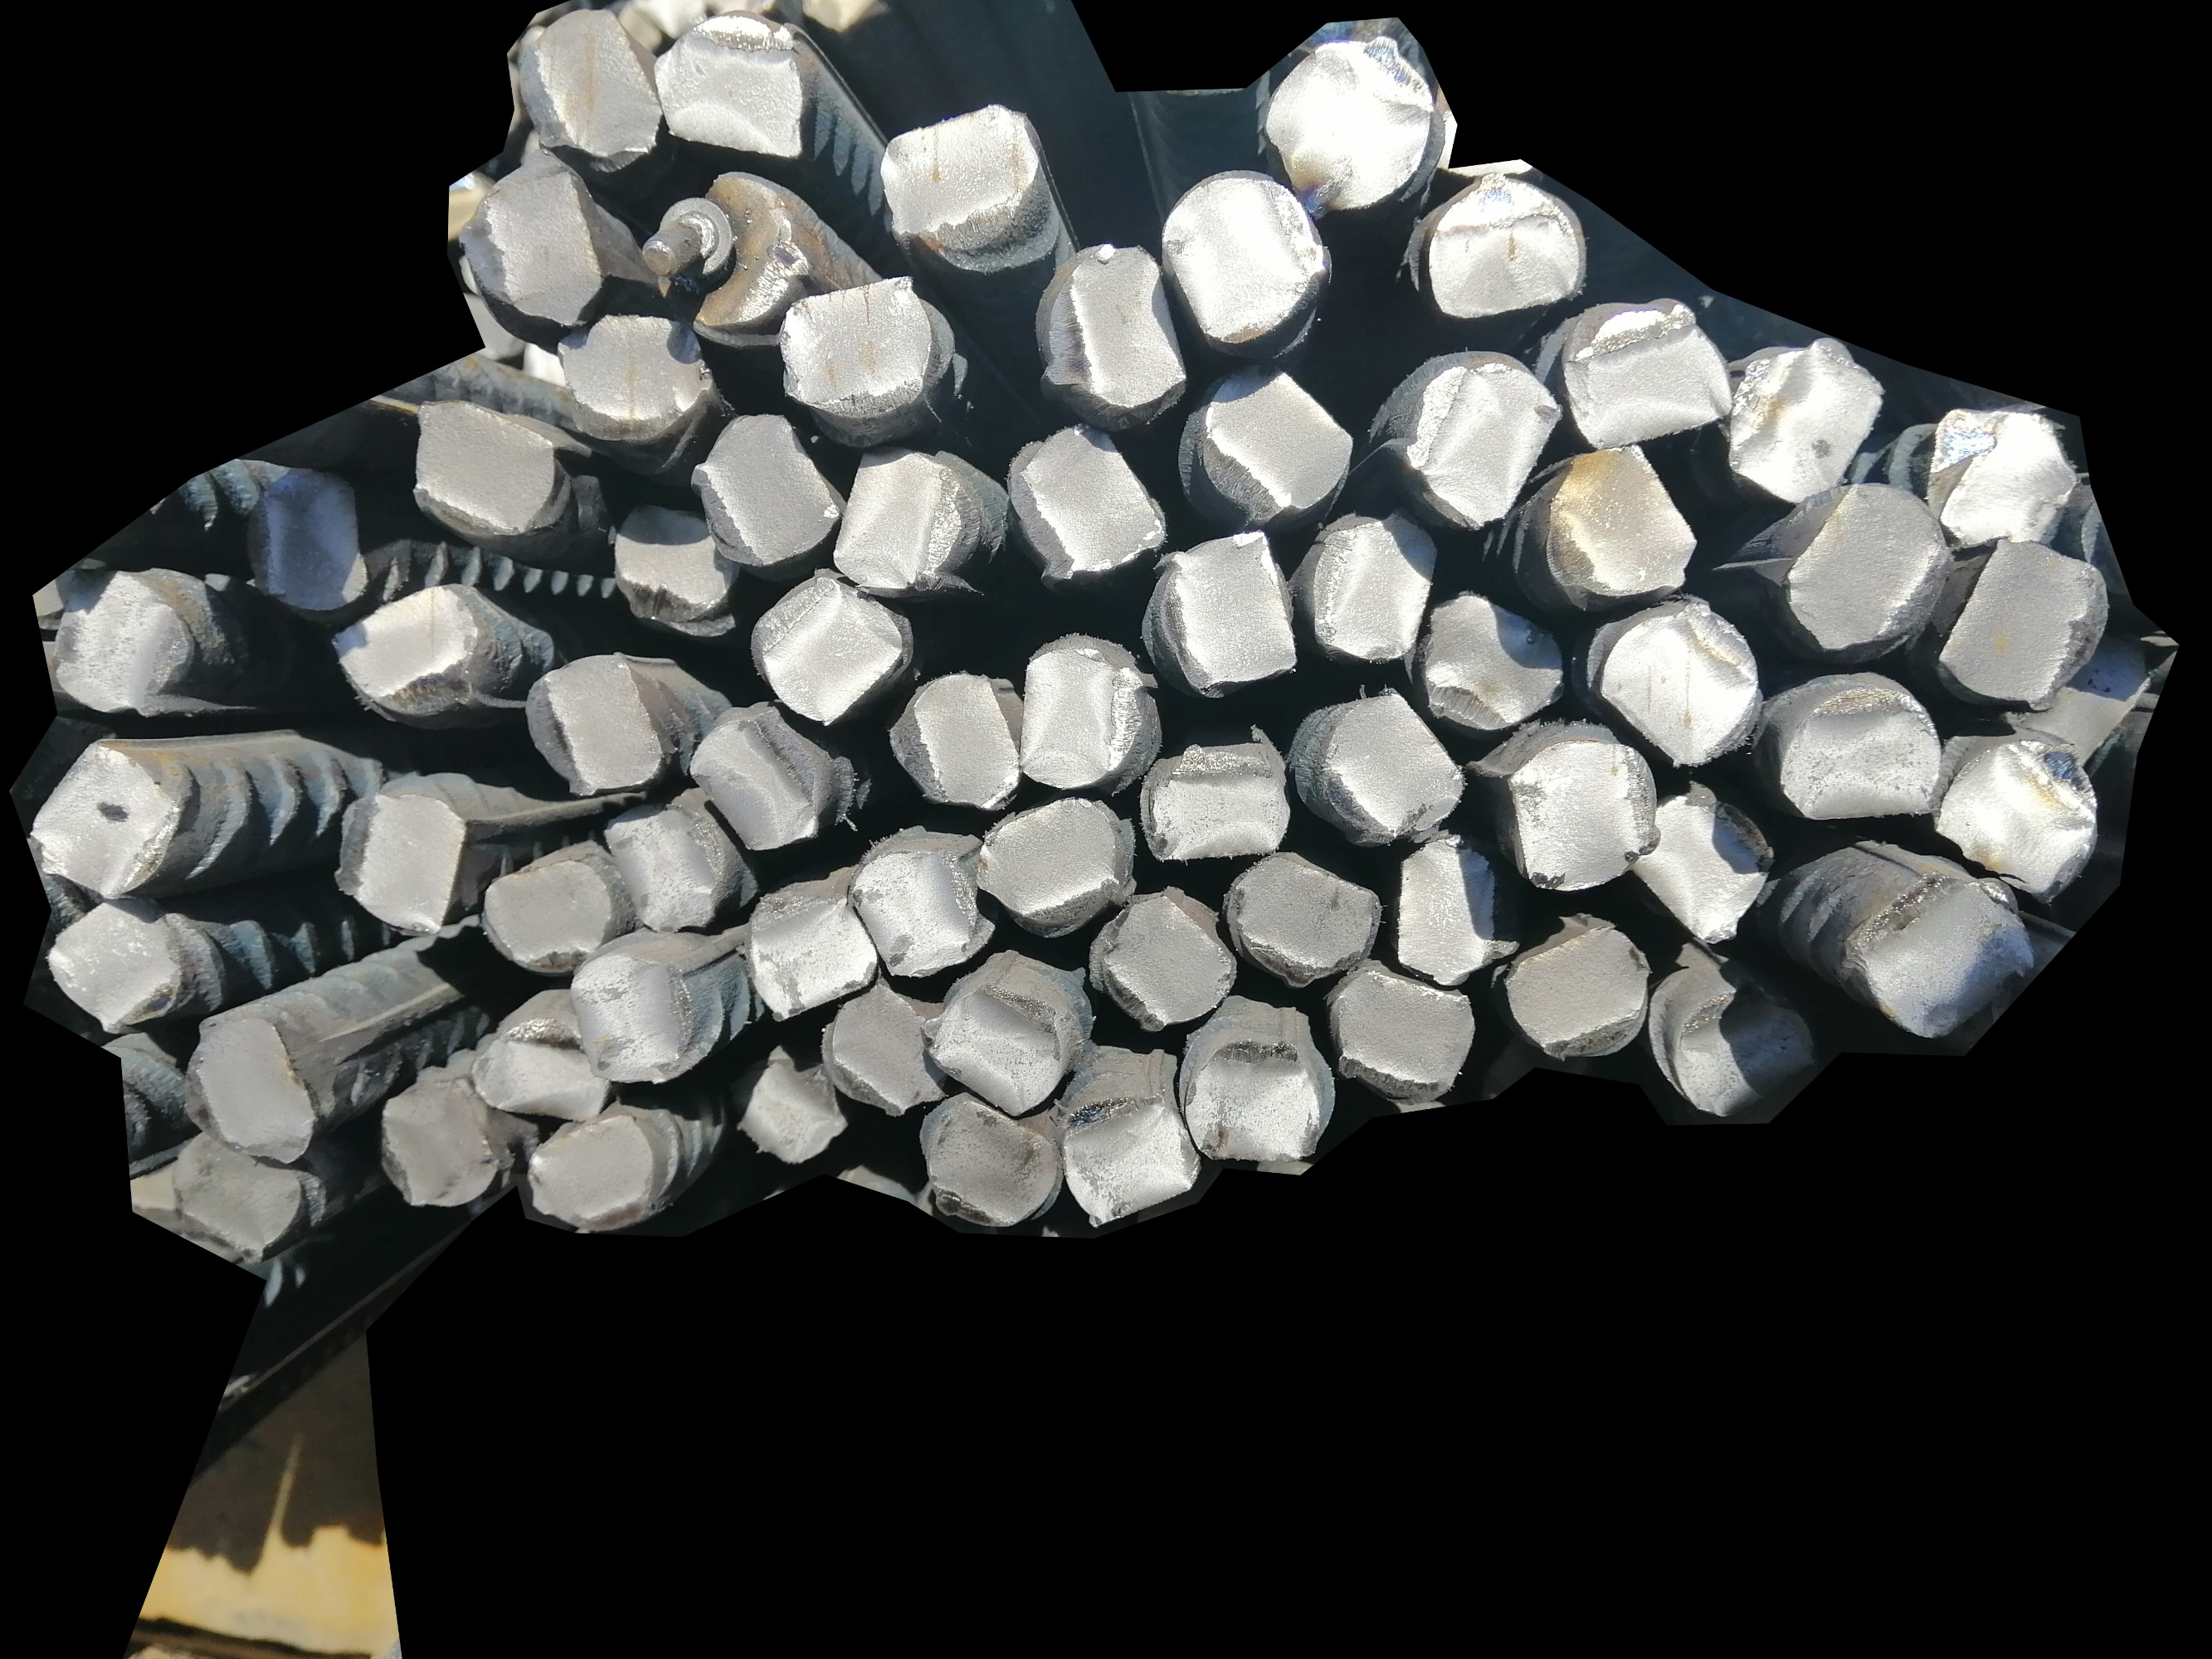rebar: (1861, 861, 2035, 1051), (1592, 592, 1764, 770), (1161, 168, 1330, 349), (1934, 726, 2100, 907), (874, 104, 1053, 266), (1396, 348, 1552, 533), (1943, 532, 2106, 707), (322, 581, 527, 720), (48, 562, 217, 728), (1774, 482, 1941, 652), (649, 169, 807, 346), (746, 571, 926, 724), (1719, 336, 1883, 504), (1265, 39, 1424, 213), (1038, 246, 1186, 421), (1197, 358, 1354, 525), (1502, 731, 1654, 897), (1630, 781, 1774, 955), (1014, 424, 1169, 586), (1562, 299, 1730, 450), (22, 737, 173, 903), (1315, 684, 1469, 842), (778, 270, 941, 420), (1925, 395, 2074, 560), (460, 163, 607, 330), (650, 9, 809, 163), (1551, 446, 1701, 604), (1776, 675, 1937, 822), (1415, 172, 1580, 317), (514, 7, 658, 173), (1089, 884, 1244, 1034), (694, 407, 836, 571), (1157, 528, 1303, 687), (2009, 606, 2152, 764), (1418, 584, 1573, 731), (411, 395, 563, 544), (1015, 630, 1151, 793), (1670, 978, 1819, 1123), (520, 650, 665, 797), (833, 445, 977, 595), (1324, 955, 1466, 1104), (334, 788, 473, 940), (882, 666, 1021, 816), (688, 711, 833, 854), (44, 890, 185, 1036), (553, 307, 709, 440), (242, 460, 374, 613), (1057, 1092, 1203, 1230), (1227, 848, 1375, 981), (183, 1019, 315, 1169), (974, 797, 1126, 927), (1391, 831, 1521, 984), (1505, 918, 1644, 1060), (169, 1128, 309, 1267), (917, 1090, 1057, 1229), (745, 883, 879, 1026), (1308, 511, 1432, 667), (1185, 1037, 1328, 1170), (611, 498, 749, 635), (846, 841, 981, 980), (1144, 742, 1289, 870), (569, 952, 699, 1092), (934, 978, 1063, 1118), (377, 1074, 502, 1215), (524, 1109, 663, 1236), (830, 980, 946, 1120), (727, 1036, 850, 1167), (470, 1009, 607, 1123), (482, 858, 622, 967), (602, 799, 719, 929)
